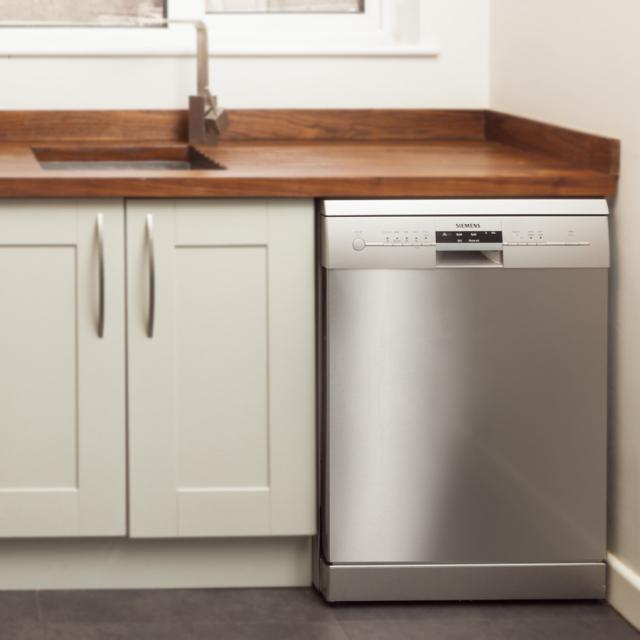dishwasher: (316, 186, 616, 611)
